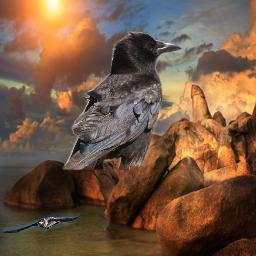Crow: (62, 31, 183, 170)
Swallow: (2, 213, 80, 233)
